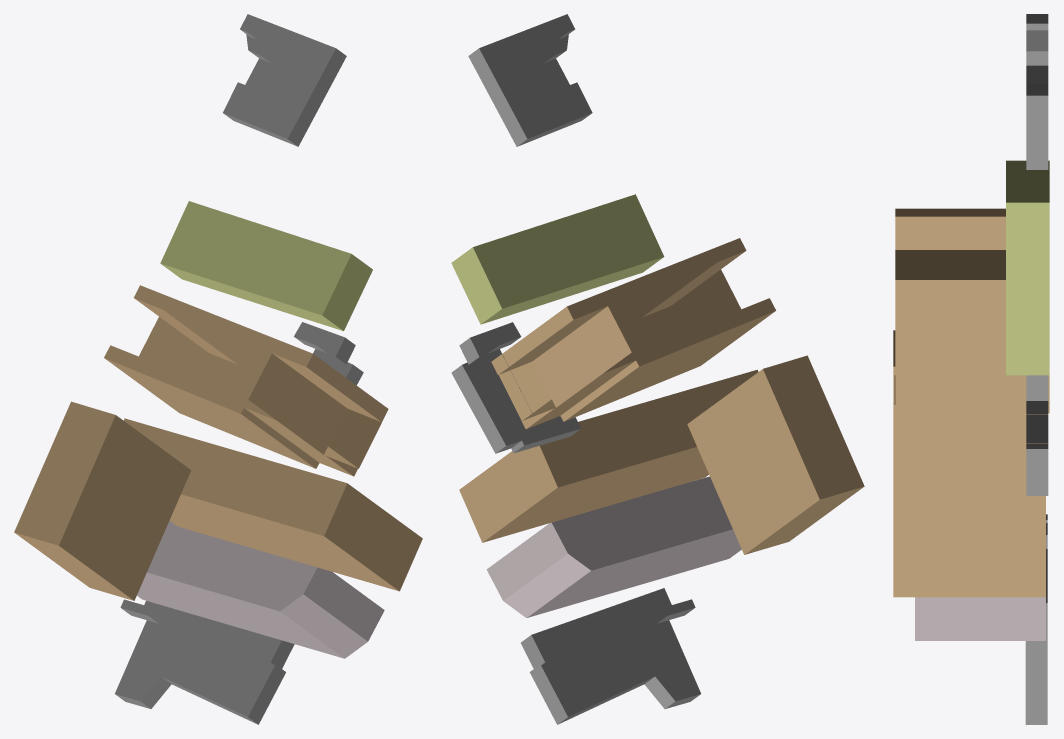
3 renders of one model, left to right at view 1: azimuth 30°, elevation 25°; view 2: azimuth 150°, elevation 25°; view 3: azimuth 270°, elevation 25°, orthographic.
Visible parts, largest first — view 1: 0_1_0_2_0_0_0_3; view 2: 0_1_0_2_0_0_0_3; view 3: 0_1_0_2_0_0_0_3.
Part boxes in pixels (x1,y1,x2,y2): 0_1_0_2_0_0_0_3: [14, 14, 422, 724]; 0_1_0_2_0_0_0_3: [451, 14, 864, 724]; 0_1_0_2_0_0_0_3: [893, 14, 1049, 724].
Size of the model in its own units: 54.27 by 108 by 21.5.
